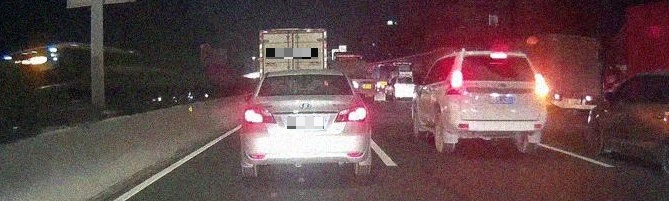L_light: (244, 106, 276, 124), (445, 70, 463, 95)
R_light: (333, 106, 367, 122), (534, 73, 546, 98)
T_light: (489, 52, 507, 59), (294, 73, 310, 76)
night-no: (240, 69, 371, 177)
night-right: (443, 50, 546, 153)
plate_1: (266, 48, 318, 59)
plate_2: (287, 117, 324, 129)
